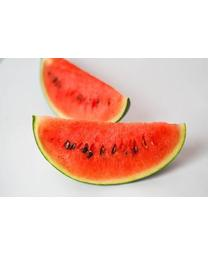watermelon: (31, 112, 188, 188), (34, 57, 132, 125)
